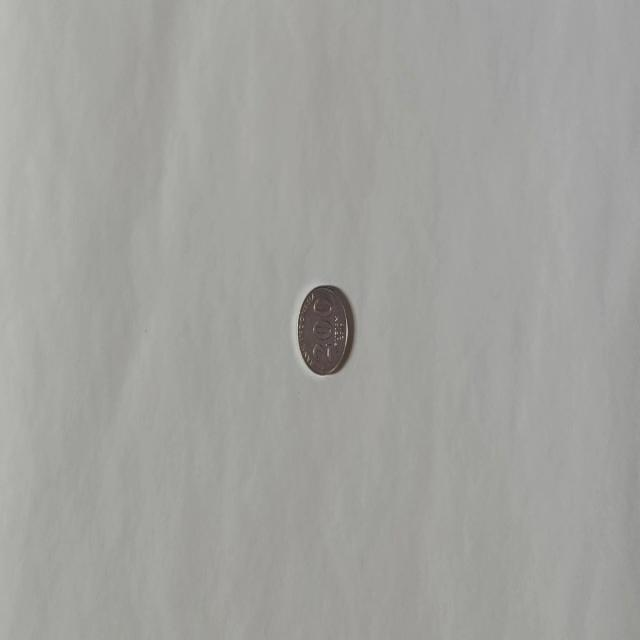dua ratus rupiah: (296, 284, 348, 376)
